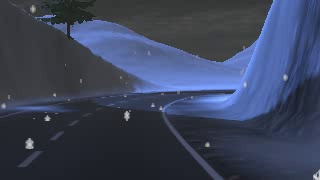Lane: (0, 89, 238, 179)
